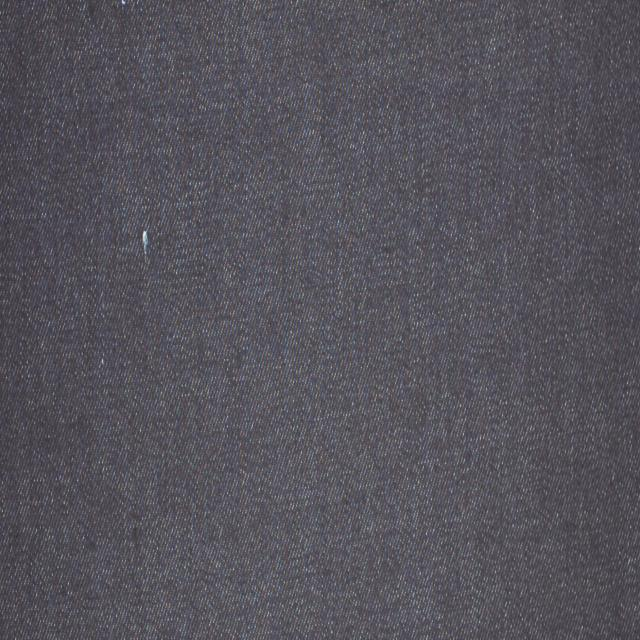Knot: (142, 230, 149, 262)
